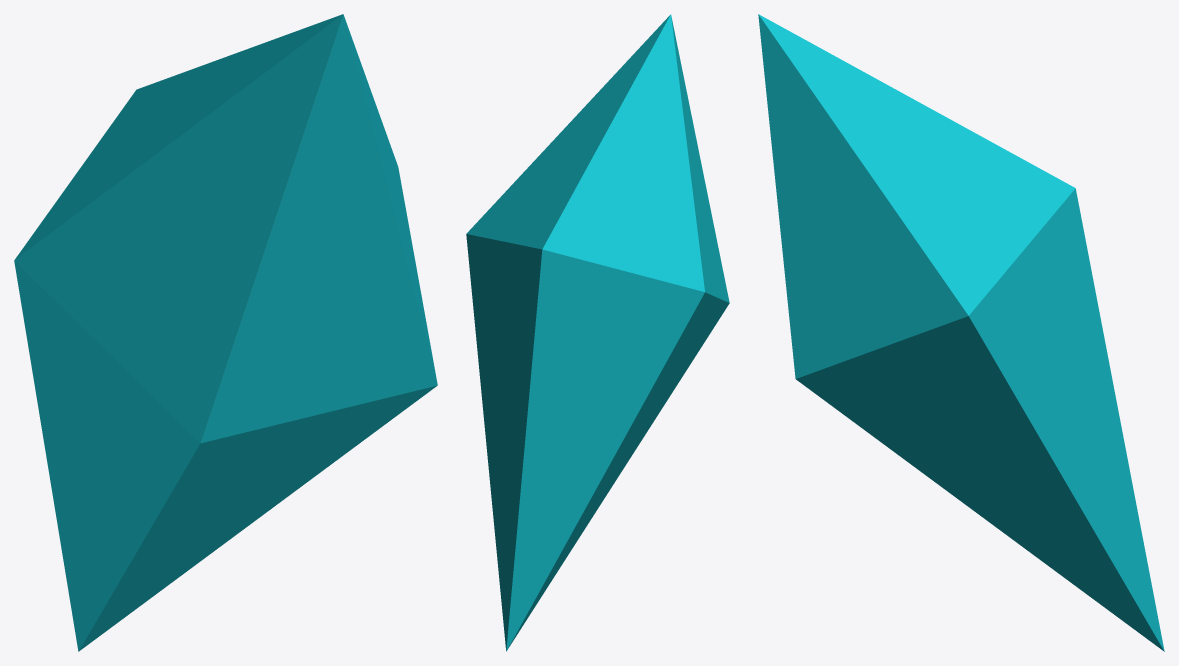
Rendered from GemStone.fbx.
3 renders of one model, left to right at view 1: azimuth 30°, elevation 25°; view 2: azimuth 150°, elevation 25°; view 3: azimuth 270°, elevation 25°, orthographic. The views are drawn at different scales.
Visible parts, largest first — view 1: Circle.565; view 2: Circle.565; view 3: Circle.565.
Part boxes in pixels (box(x1,y1,x2,y2)): Circle.565: box(14, 14, 437, 651); Circle.565: box(466, 14, 729, 651); Circle.565: box(758, 14, 1164, 651).
Bounding box in the file's own units: 33.44 × 69.21 × 39.96.
